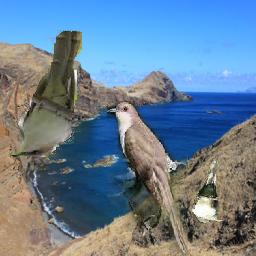Cuckoo: (108, 102, 189, 253), (10, 27, 83, 158), (191, 159, 223, 224)
